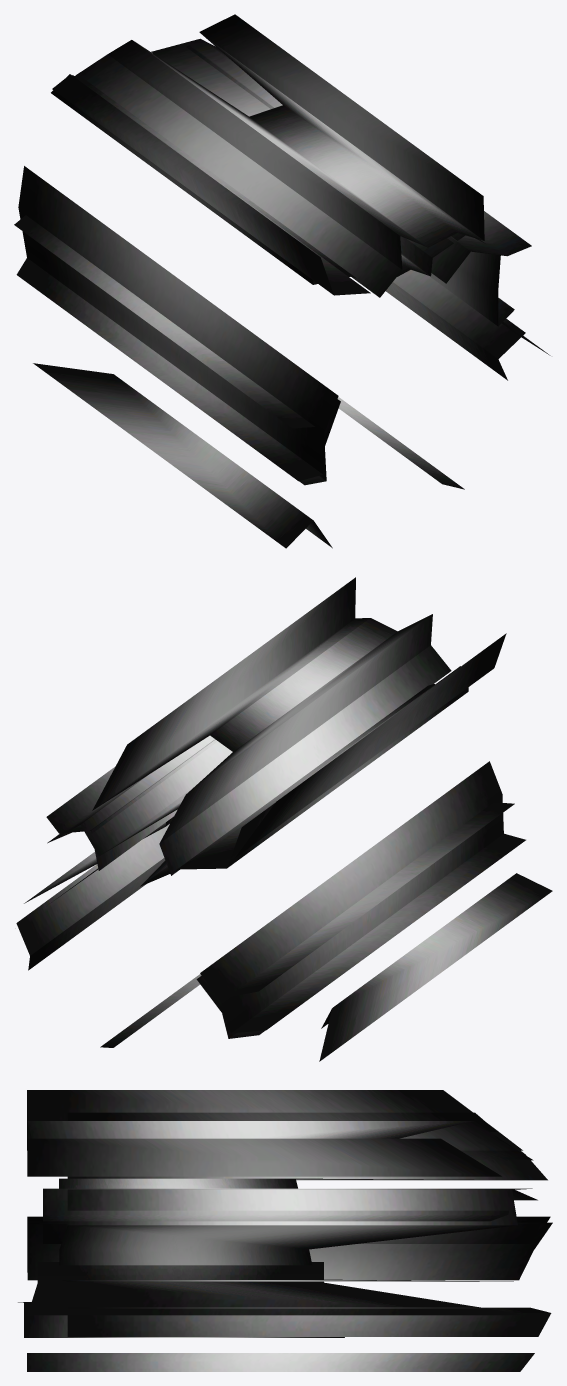
The model's file is vfx_kurp_0175.dae.
The picture shows the model from 3 angles, top to bottom: view 1: azimuth 30°, elevation 25°; view 2: azimuth 150°, elevation 25°; view 3: azimuth 270°, elevation 25°; orthographic projection. The views are drawn at different scales.
Visible parts, largest first — view 1: vfx_kurp_0175; view 2: vfx_kurp_0175; view 3: vfx_kurp_0175.
Boxes of the visible parts, x1,y1,x2,y2 form: vfx_kurp_0175: (14, 14, 550, 548); vfx_kurp_0175: (16, 577, 552, 1061); vfx_kurp_0175: (18, 1090, 552, 1371).
Size of the model in its own units: 7.86 by 16.03 by 8.57.
1 material, 1 textured.
